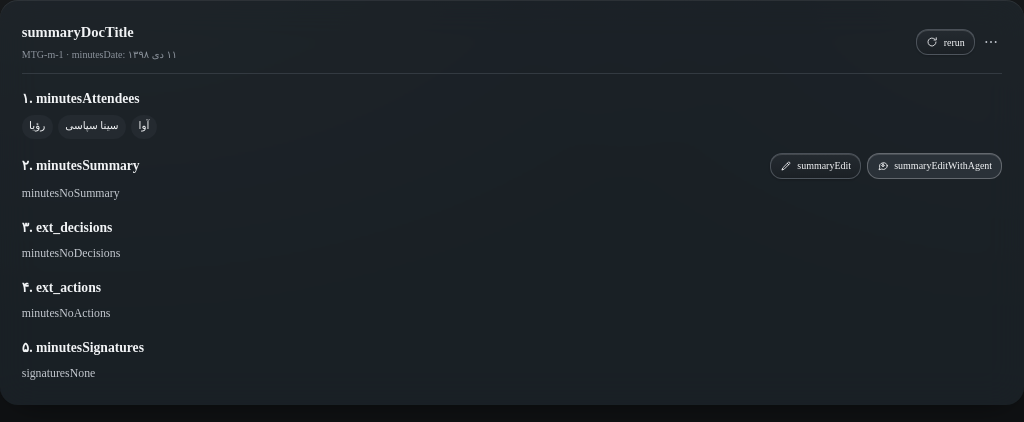
Test: the letterhead, and the assistant's draft (2026-09-17) › names WHICH nothing when the draft cannot be written
Expected: the text "رؤیا" is shown, 22,115 -> 52,139
Click the button named "summaryExport" at (991, 42), box 980,31 -> 1002,53
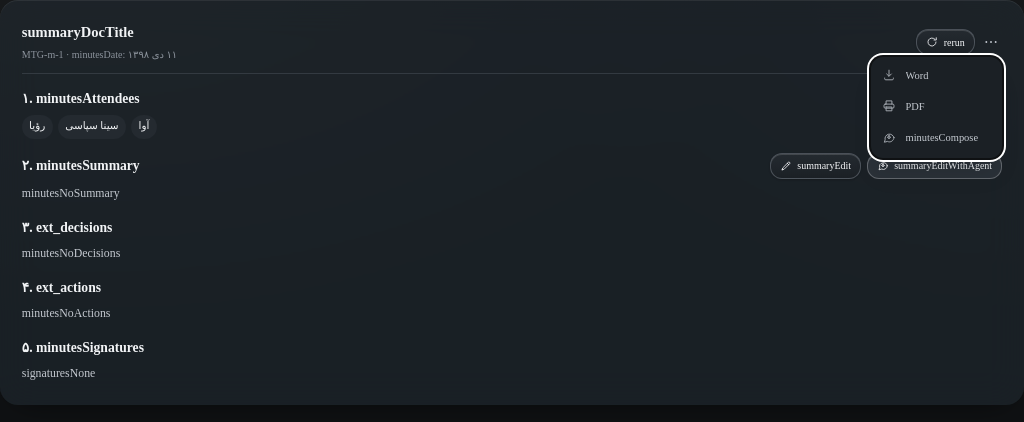
Click the menu item "minutesCompose" at (930, 138), box 882,131 -> 978,145
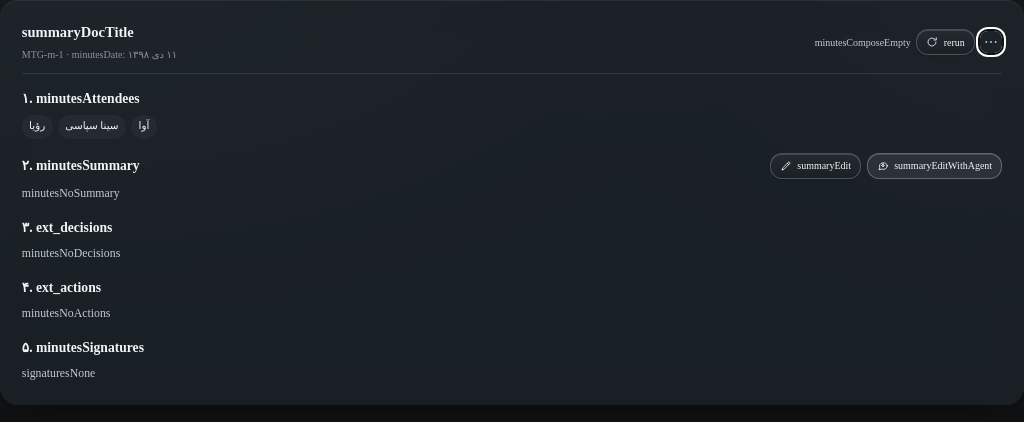
Result: the text "minutesComposeEmpty" is shown at 815,34 -> 911,50
